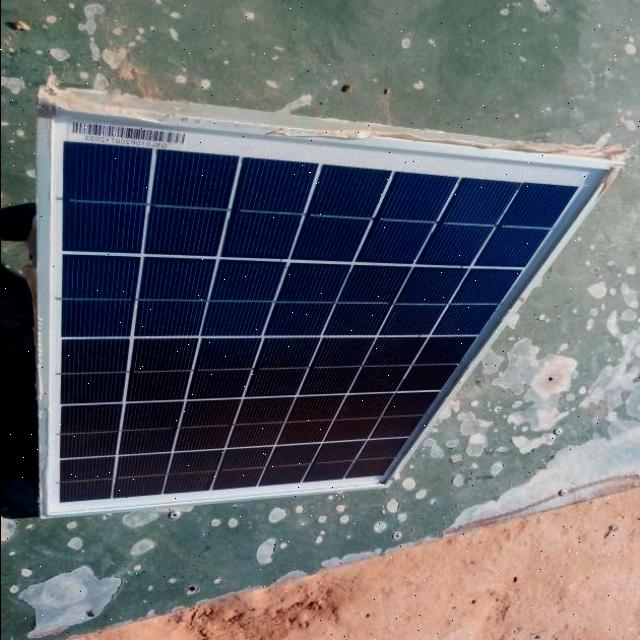Normal Solar Panel: (29, 111, 608, 517)
